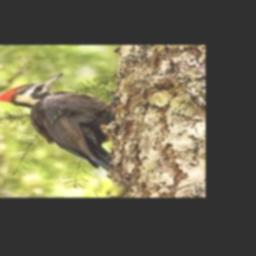Woodpecker: (0, 73, 116, 171)
